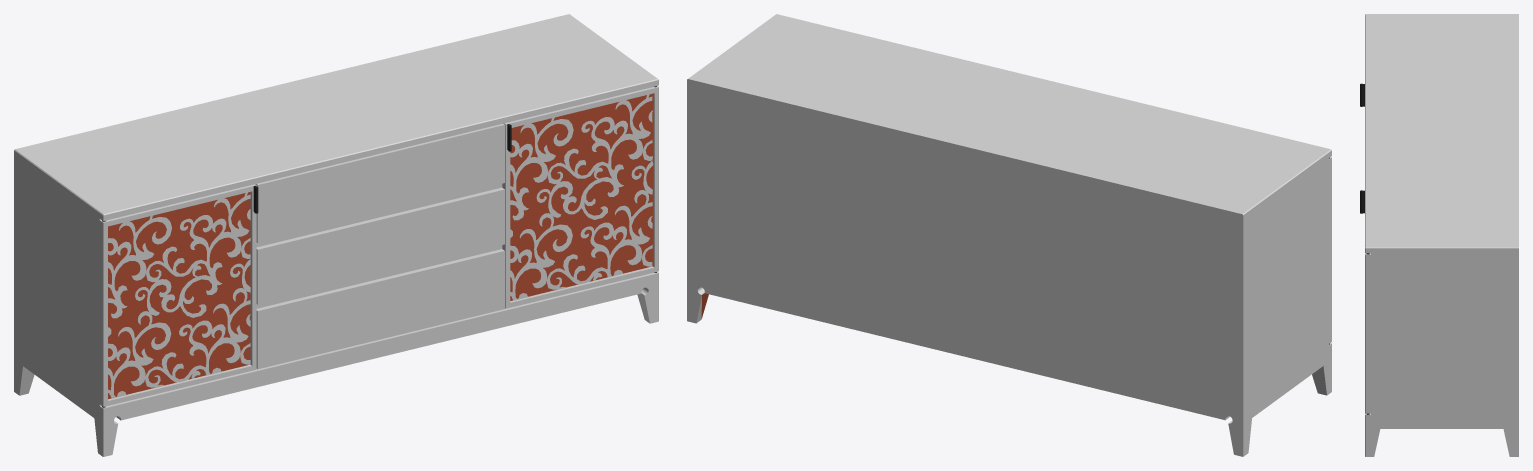
Rendered from MZHCB01M.FBX.
3 renders of one model, left to right at view 1: azimuth 30°, elevation 25°; view 2: azimuth 150°, elevation 25°; view 3: azimuth 270°, elevation 25°, orthographic. The views are drawn at different scales.
Visible parts, largest first — view 1: MZHCB01M; view 2: MZHCB01M; view 3: MZHCB01M.
Part boxes in pixels (x1=…): MZHCB01M: x1=14, y1=14, x2=658, y2=456; MZHCB01M: x1=687, y1=14, x2=1331, y2=456; MZHCB01M: x1=1360, y1=14, x2=1518, y2=456.
Bounding box in the file's own units: 180 × 51.59 × 75.
